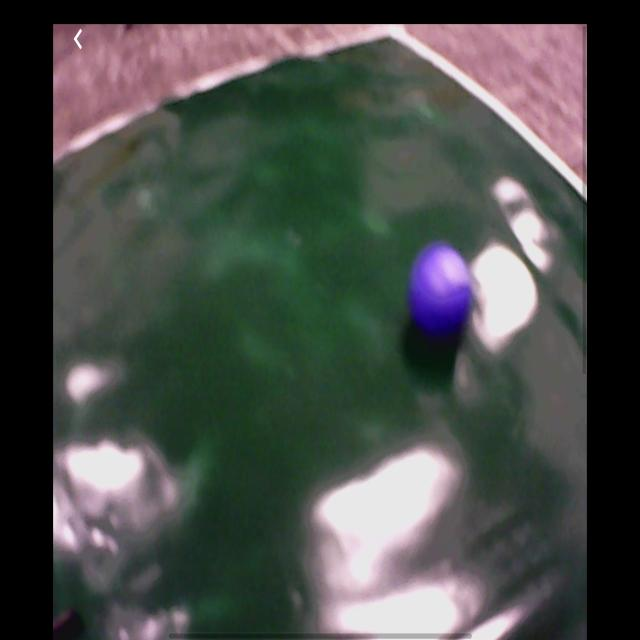ball: (410, 244, 471, 337)
